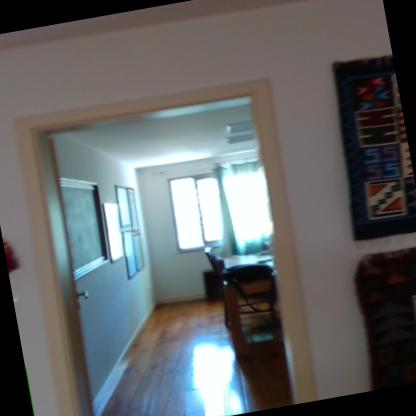open: (3, 46, 345, 415)
